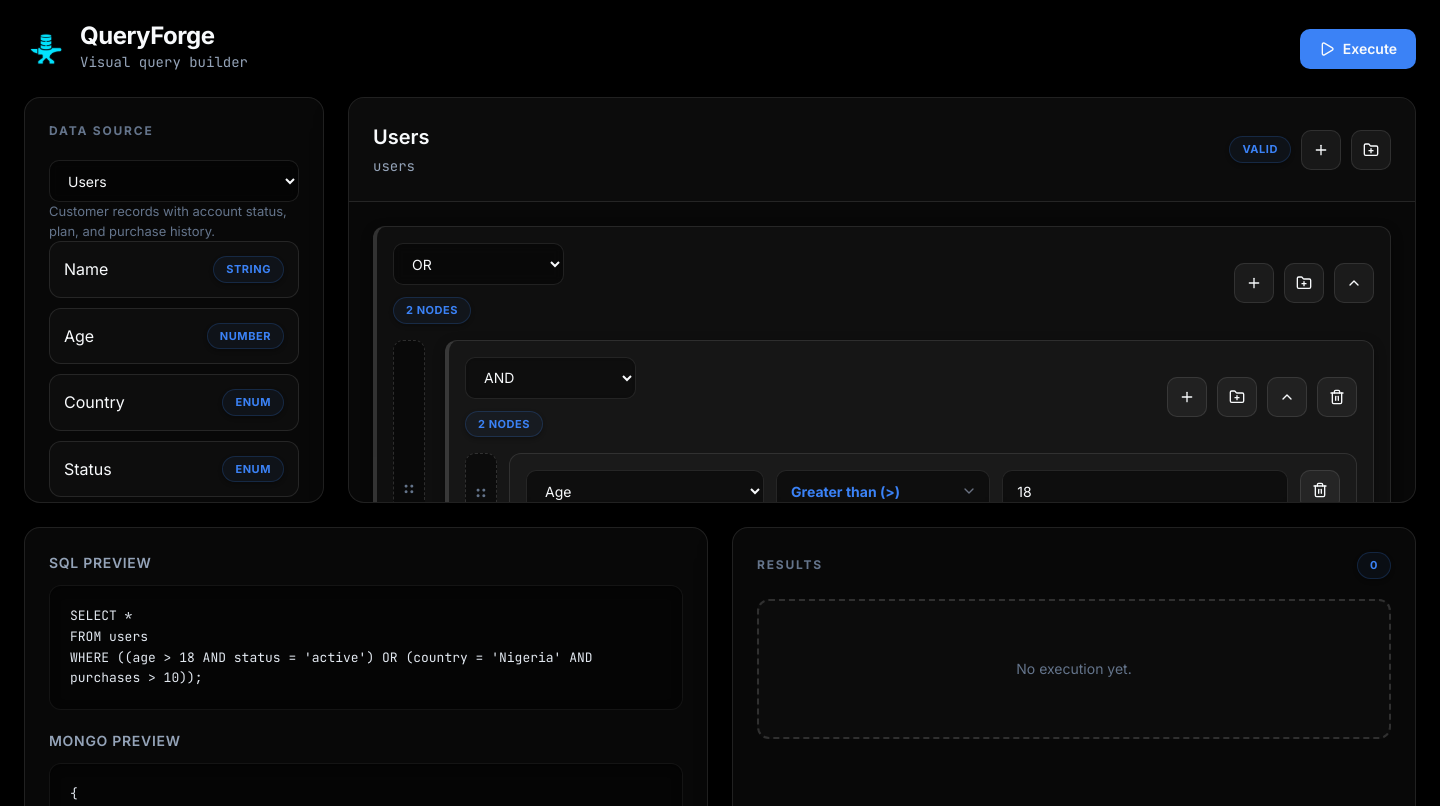
Test case: QueryBuilderShell › collapses and expands recursive groups
Click the 1st button named "Collapse": (1354, 283) [1334,263,1374,303]
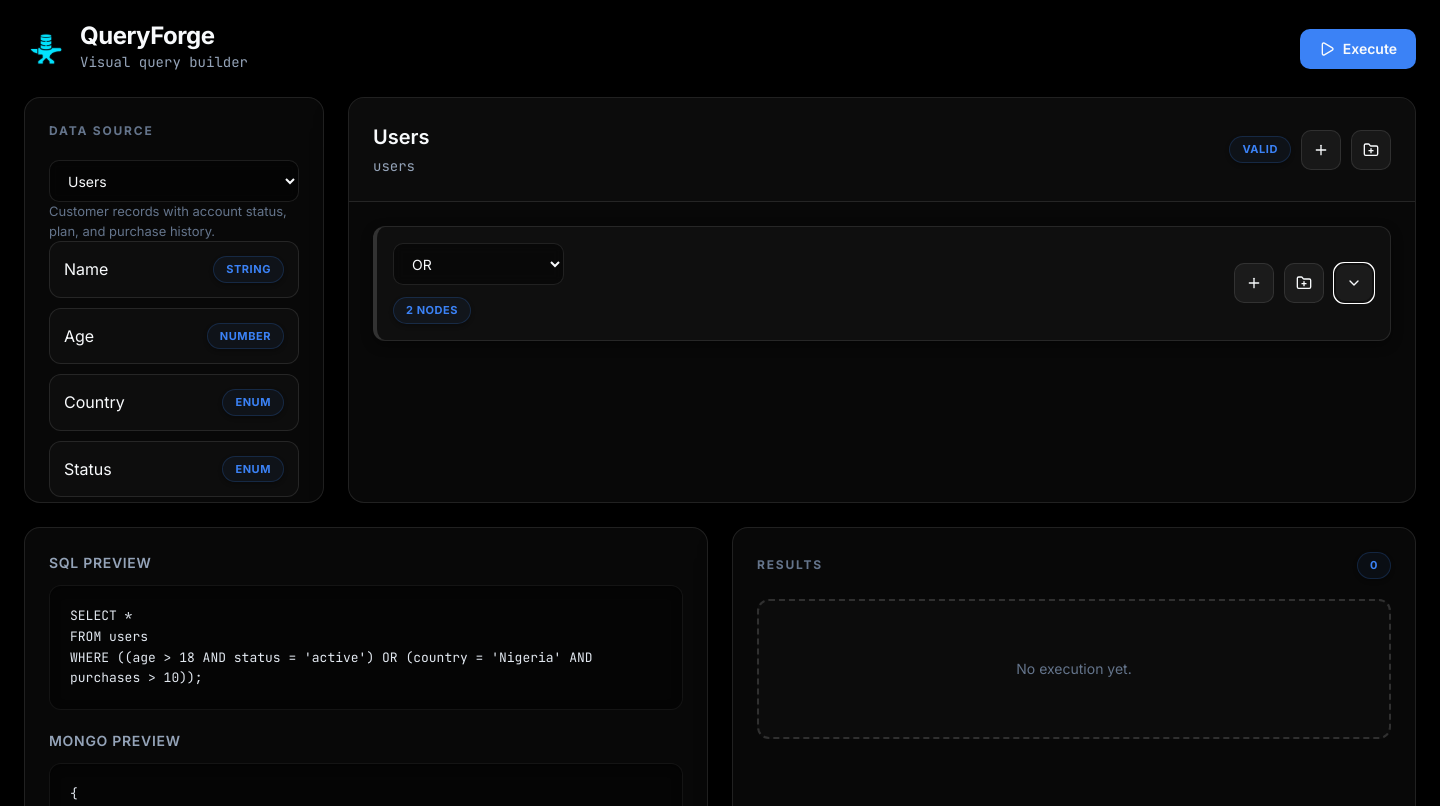
Check: no dropdowns labelled "Field" are shown
Click the button named "Expand": (1354, 283) [1334,263,1374,303]
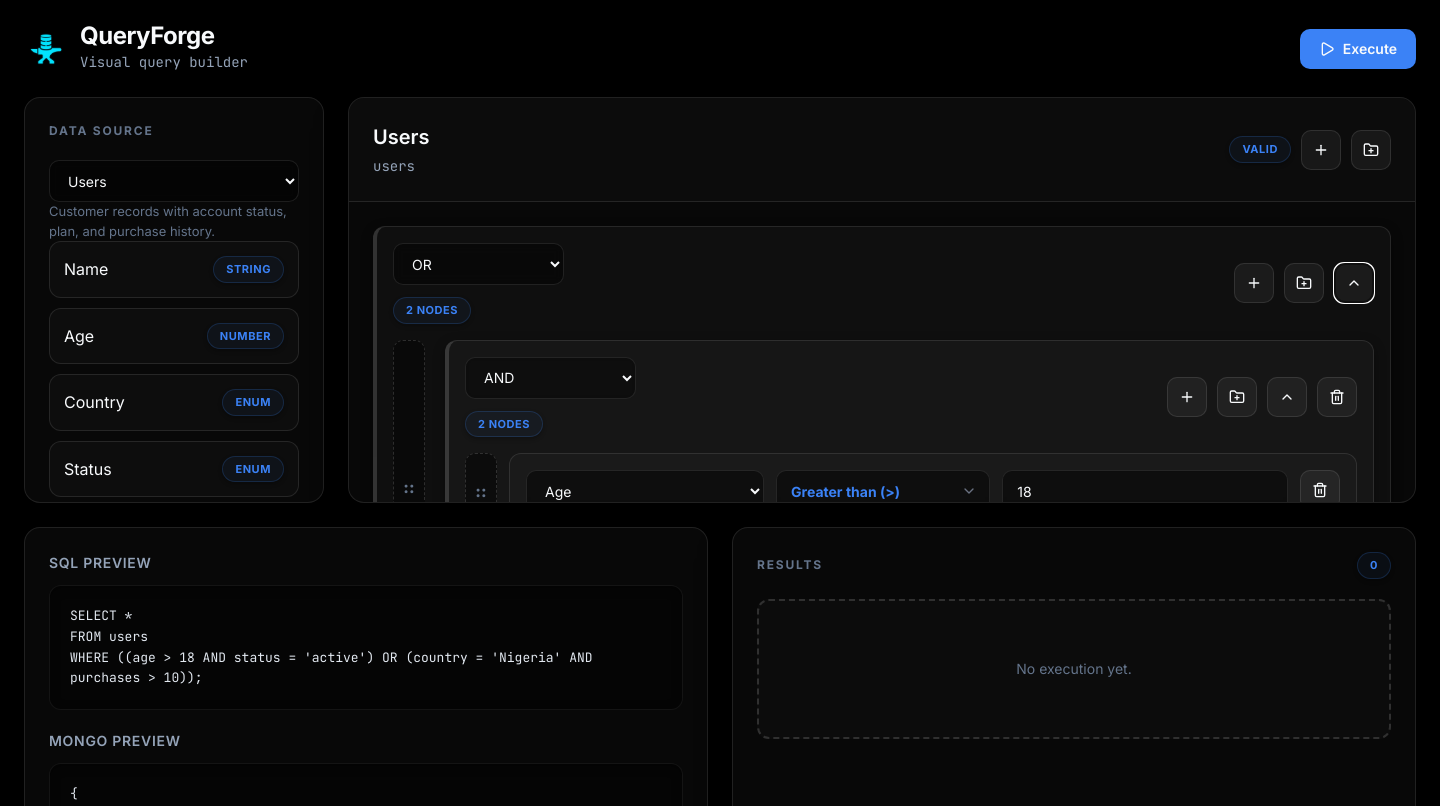
Check: the number of dropdowns named "Field" is 4
